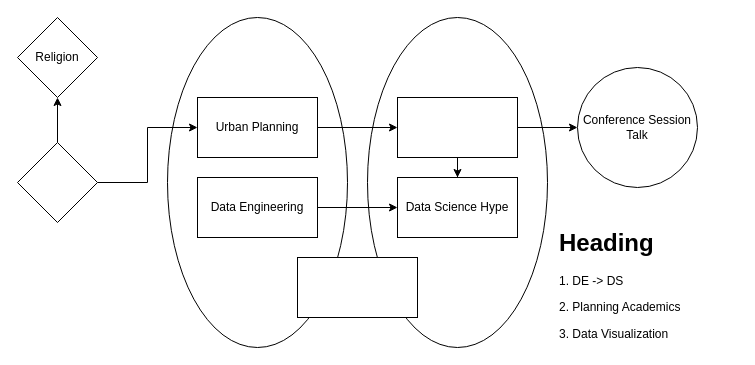
This 755x365 diagram has some shape labels left out. Each missing label, with the centre of its shape:
"Data Visualization" belongs at (x=357, y=287).
"Philosophy" belongs at (x=57, y=182).
"Reproducibility of Analysis" belongs at (x=457, y=127).
